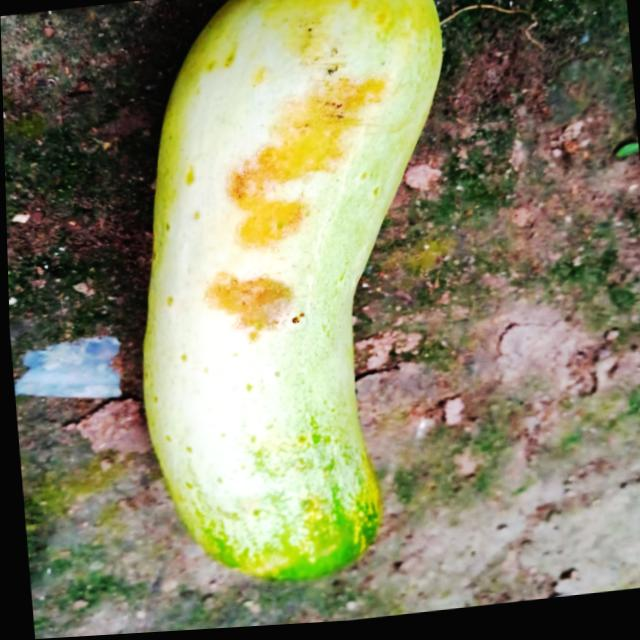Belly-Rot: (179, 44, 404, 359)
